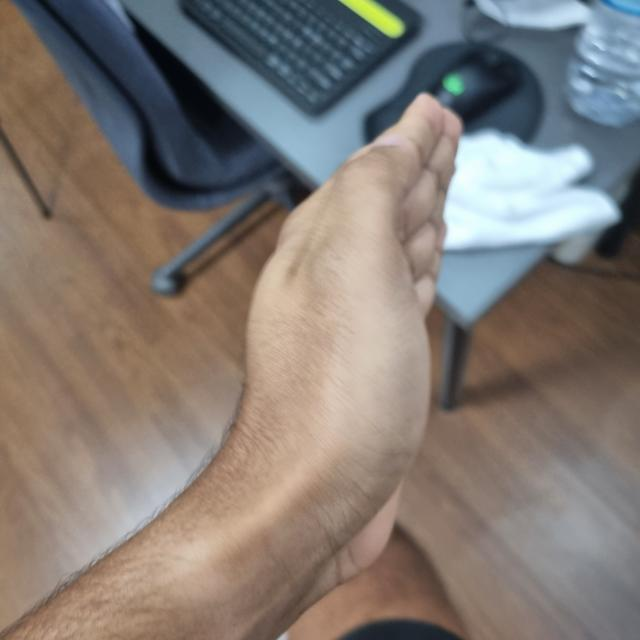Paper: (233, 97, 460, 530)
